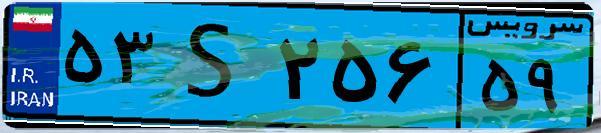2: (270, 28, 330, 110)
3: (110, 28, 158, 98)
5: (330, 28, 385, 110), (57, 26, 110, 100), (475, 38, 525, 113)
6: (385, 28, 445, 110)
9: (525, 38, 570, 115)
S: (158, 12, 270, 120)
